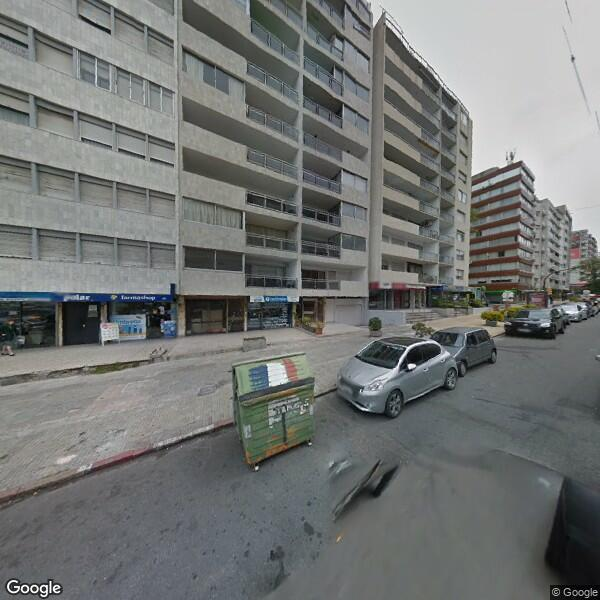Trash: (230, 350, 319, 468)
